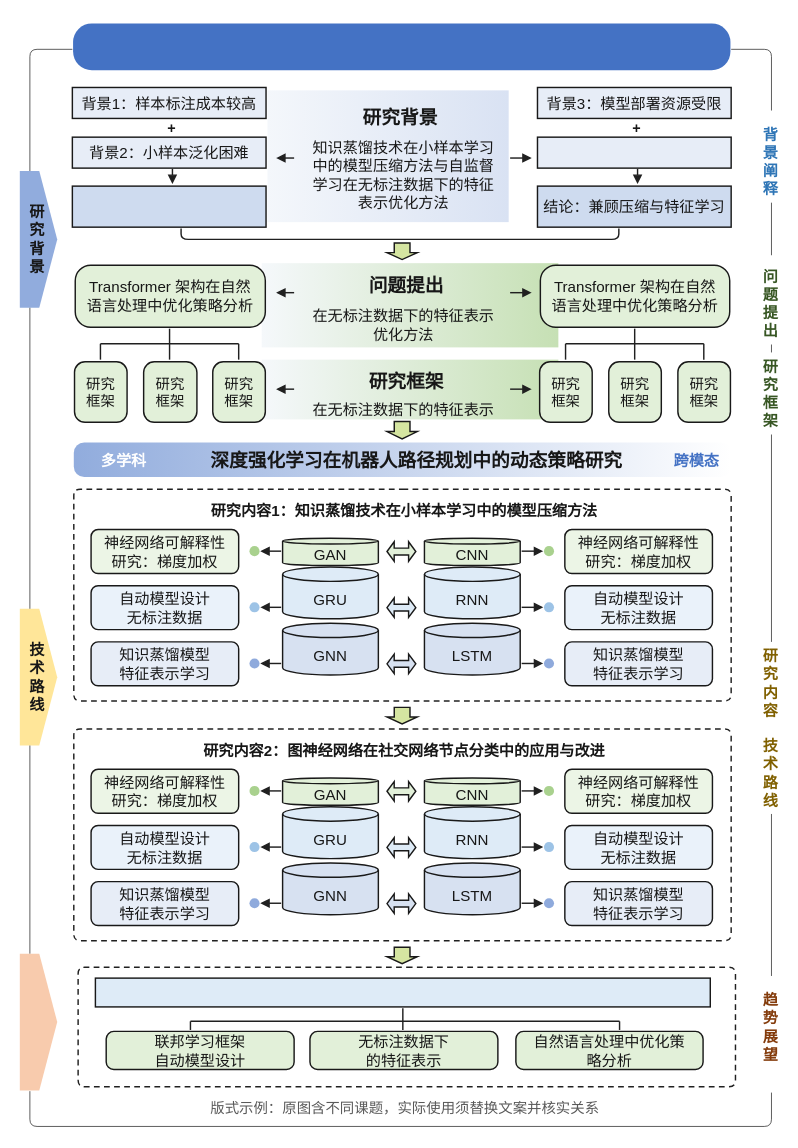
This 798x1148 diagram has some shape labels left out. Here are the shapes that lost their labels. From the top down, the box of each, then its label:
(73, 23, 730, 70): 基于深度卷积神经网络的图像语义分割方法研究
(536, 136, 732, 168): 背景4：无标注数据积累
(71, 185, 266, 228): 结论：提高样本利用效率
(94, 977, 711, 1007): 结论与趋势展望
(19, 953, 57, 1090): 结 论 展 望
